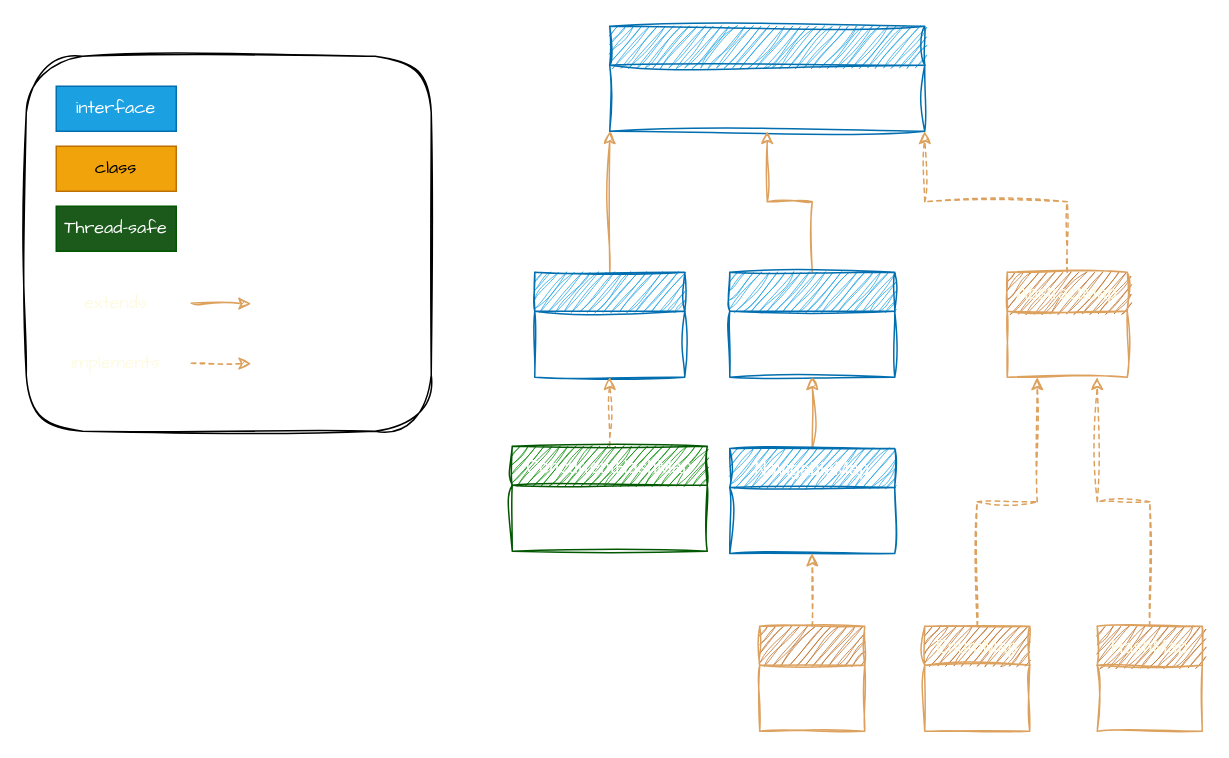
This 1229x758 diagram has some shape labels left out. Here are the shapes that lost their labels. From the top down, the box of each, then its label:
(608, 25, 925, 131): Map
(533, 271, 685, 377): ConcurrentMap
(728, 271, 895, 377): SortedMap
(758, 625, 865, 731): TreeMap
